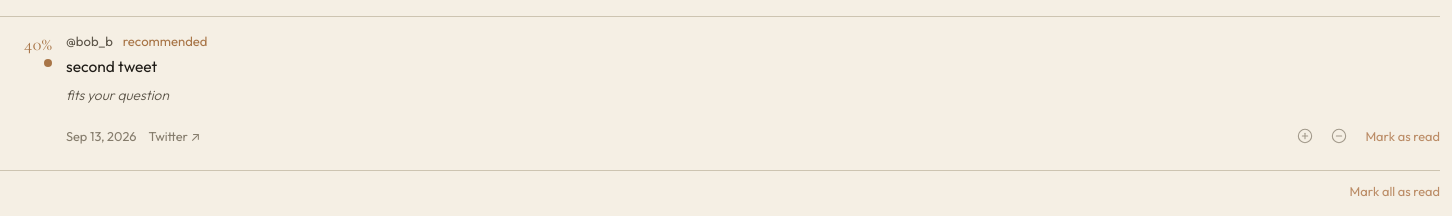
Test: Open on X marks the pick read; Mark as unread stays to undo it
The image size is (1452, 216).
Click the link "Twitter ↗" at (175, 136), box [149,128,200,144]
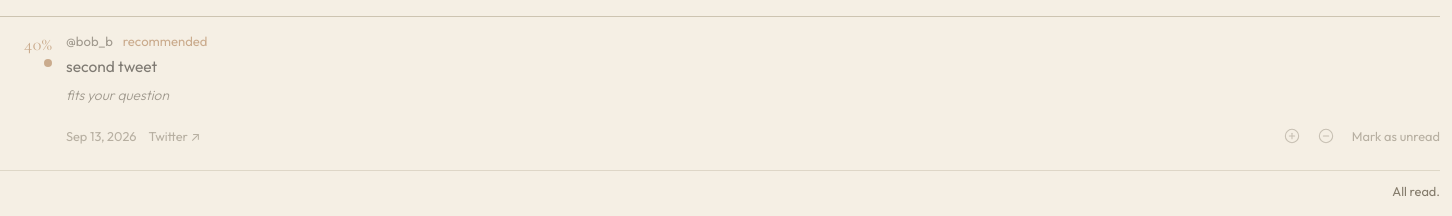
Expected: the button "Mark as unread" is shown, [1352,128,1440,144]
Expected: the text "All read." is shown, [1392,183,1440,199]
